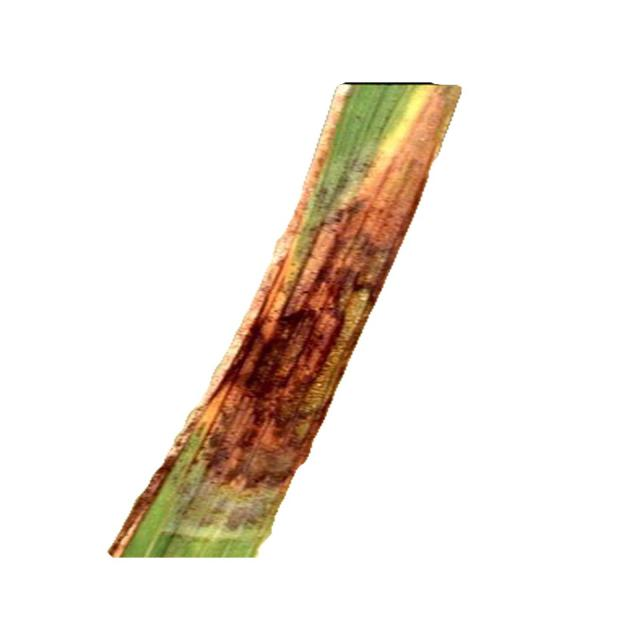Leaf scald: (68, 61, 560, 569)
